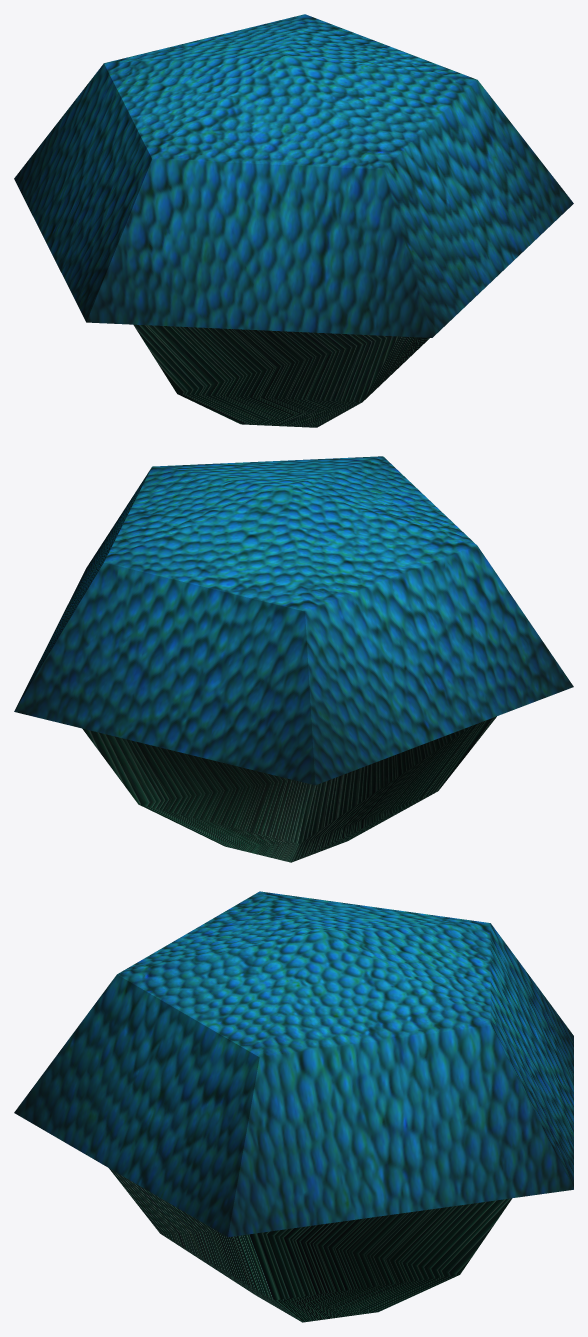
Rendered from MushroomBlueTiny.obj.
3 renders of one model, top to bottom at view 1: azimuth 30°, elevation 25°; view 2: azimuth 150°, elevation 25°; view 3: azimuth 270°, elevation 25°, orthographic. The views are drawn at different scales.
Parts seen in each view (by area): view 1: MushroomBlueTiny; view 2: MushroomBlueTiny; view 3: MushroomBlueTiny.
Boxes of the visible parts, x1,y1,x2,y2 form: MushroomBlueTiny: (14,14,573,427); MushroomBlueTiny: (14,456,573,862); MushroomBlueTiny: (14,891,573,1322).
Size of the model in its own units: 0.0513 by 0.0349 by 0.0488.
